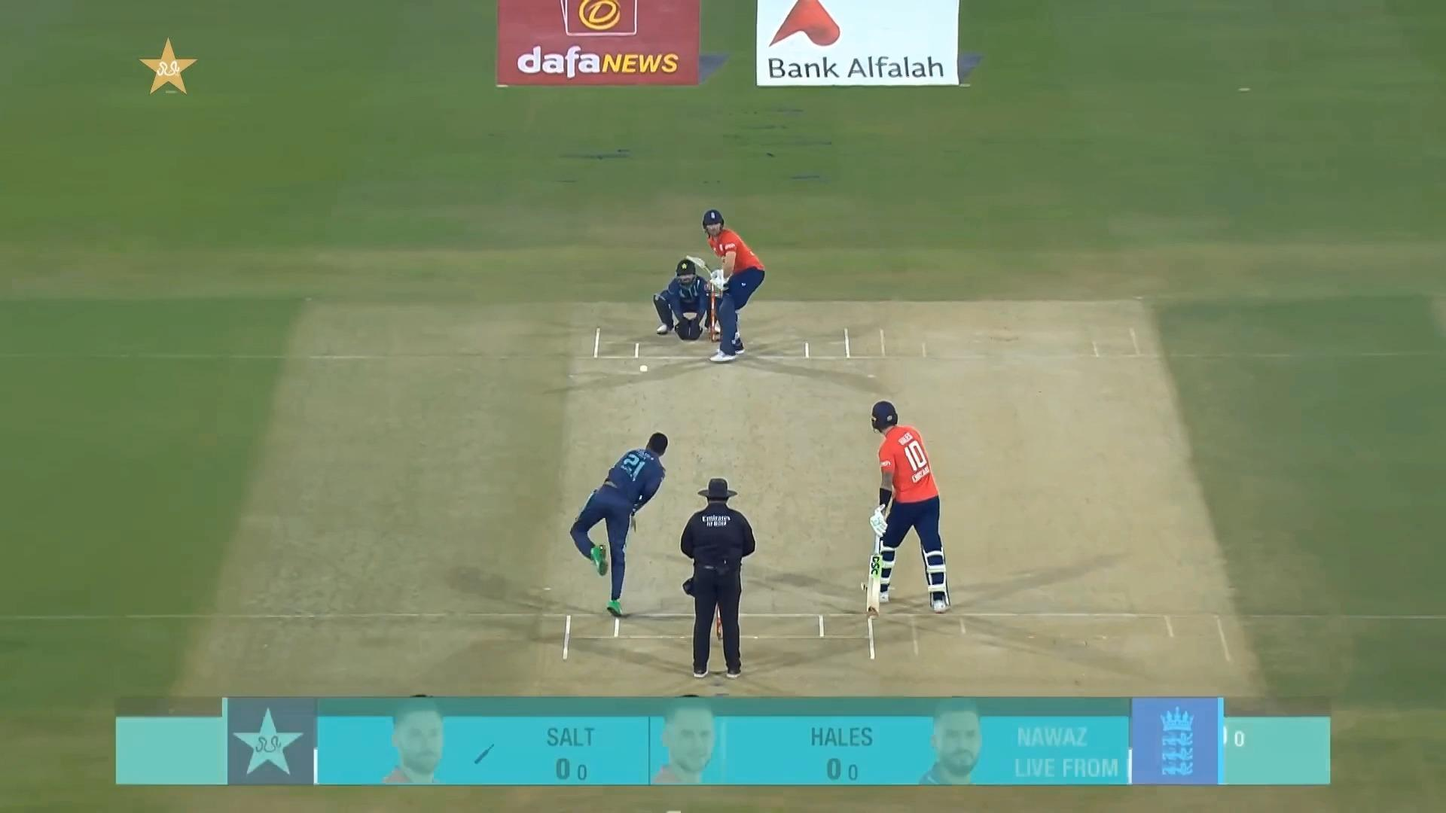BM 1: (682, 207, 766, 363)
BO: (568, 431, 671, 616)
